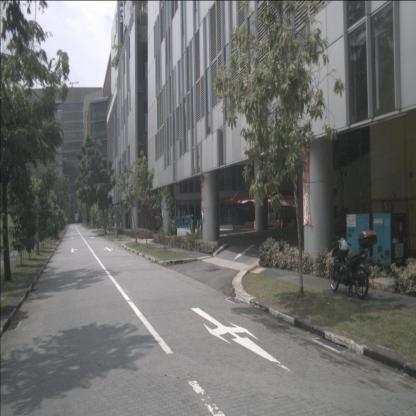cone: (280, 219, 284, 229), (276, 219, 280, 228), (253, 219, 256, 230)
